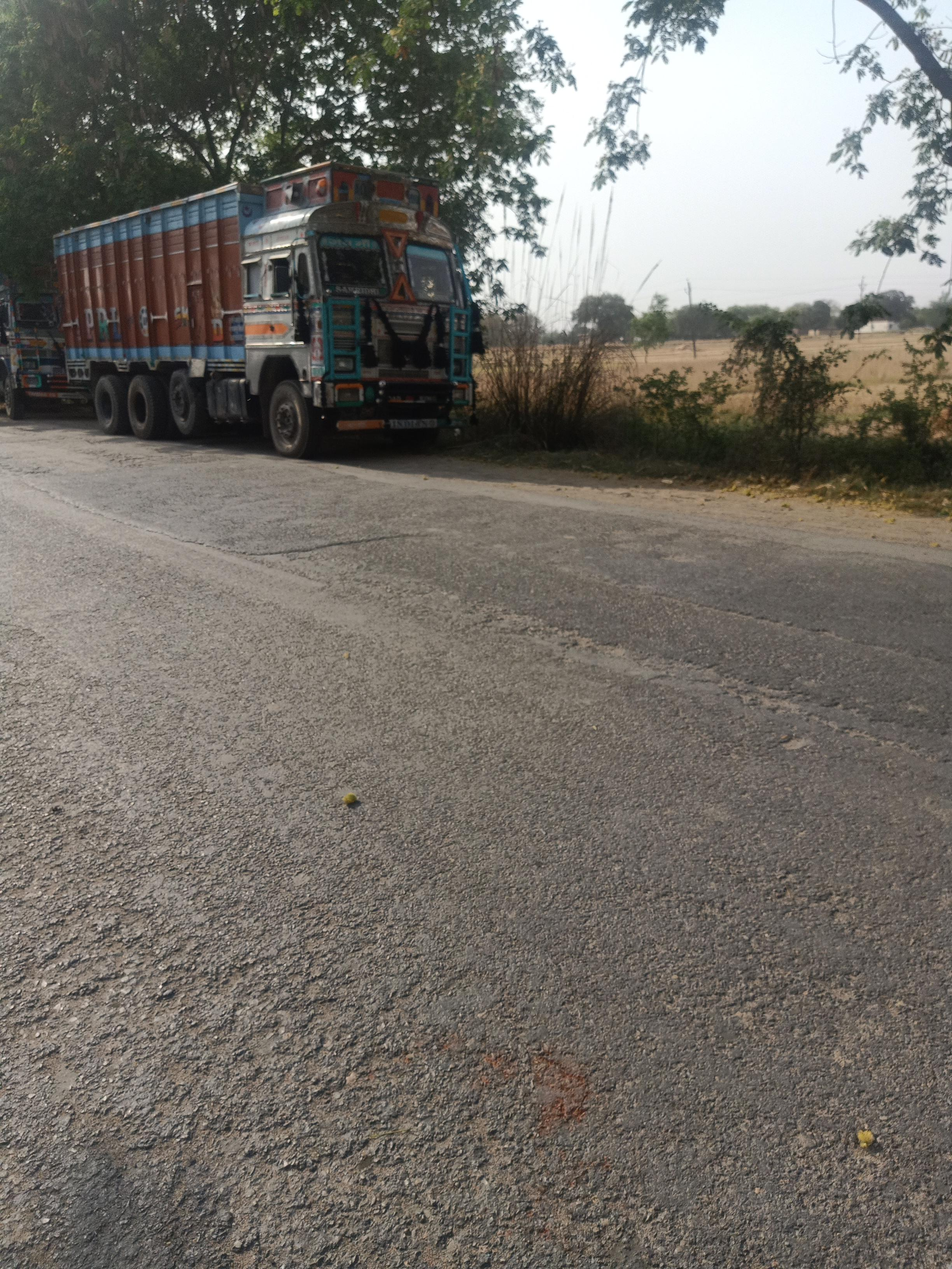non-ambulance: (9, 143, 543, 500)
